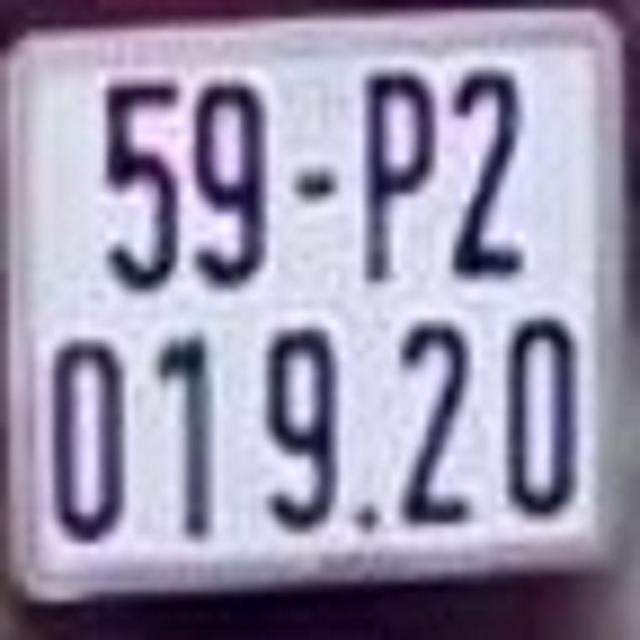0: (500, 306, 582, 517), (48, 325, 123, 544)
1: (146, 322, 224, 549)
2: (448, 53, 531, 284), (394, 310, 473, 532)
5: (99, 66, 181, 289)
9: (189, 67, 271, 287), (260, 315, 339, 536)
P: (351, 63, 438, 284)
